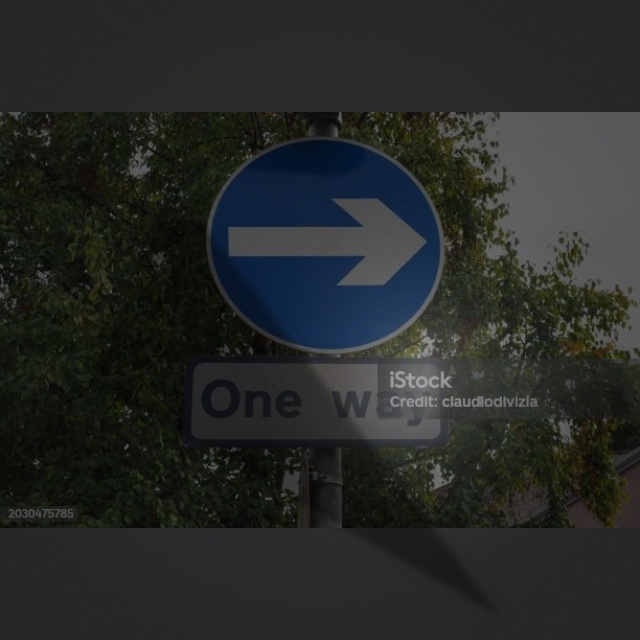Compulsory_Turn_Right: (207, 135, 448, 355)
